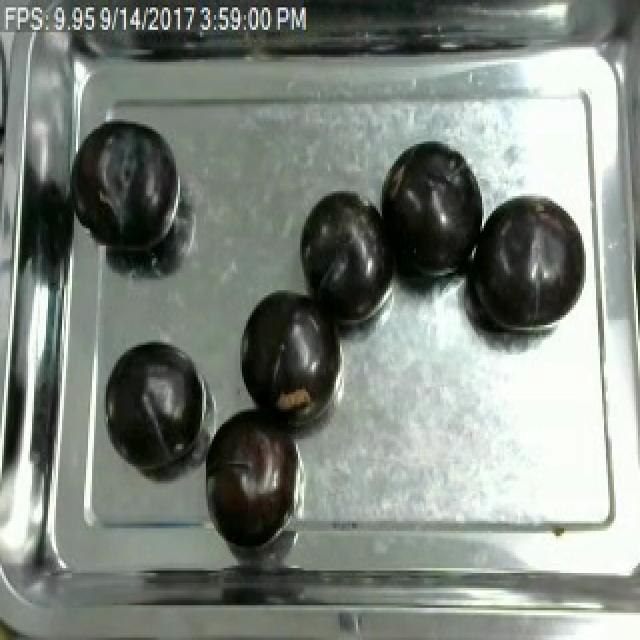Fruit: (460, 191, 586, 345), (376, 134, 488, 285), (294, 184, 400, 332), (82, 114, 184, 266), (232, 283, 344, 419), (100, 332, 208, 472), (204, 399, 302, 551)
